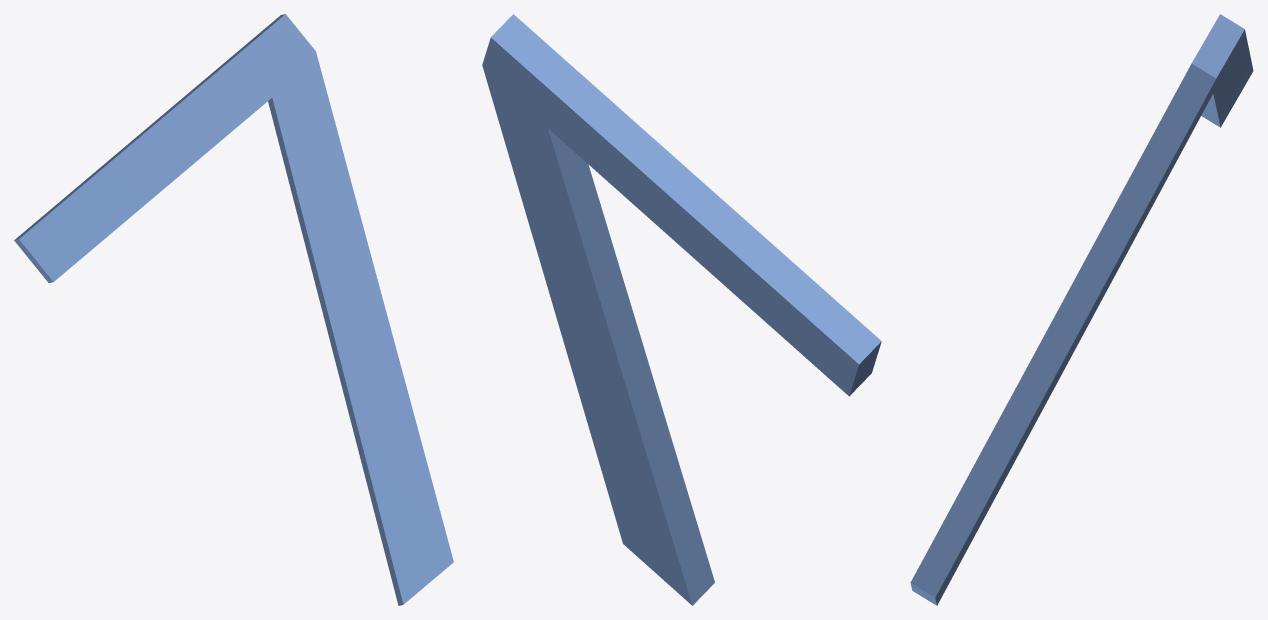
File: New_Number_7.gltf
3 renders of one model, left to right at view 1: azimuth 30°, elevation 25°; view 2: azimuth 150°, elevation 25°; view 3: azimuth 270°, elevation 25°, orthographic. The views are drawn at different scales.
Parts seen in each view (by area): view 1: Part 70; view 2: Part 70; view 3: Part 70.
Boxes of the visible parts, <box> form: Part 70: <box>14,14,453,605</box>; Part 70: <box>482,14,881,605</box>; Part 70: <box>910,14,1253,605</box>.
Size of the model in its own units: 0.00366 by 0.00575 by 0.003.
